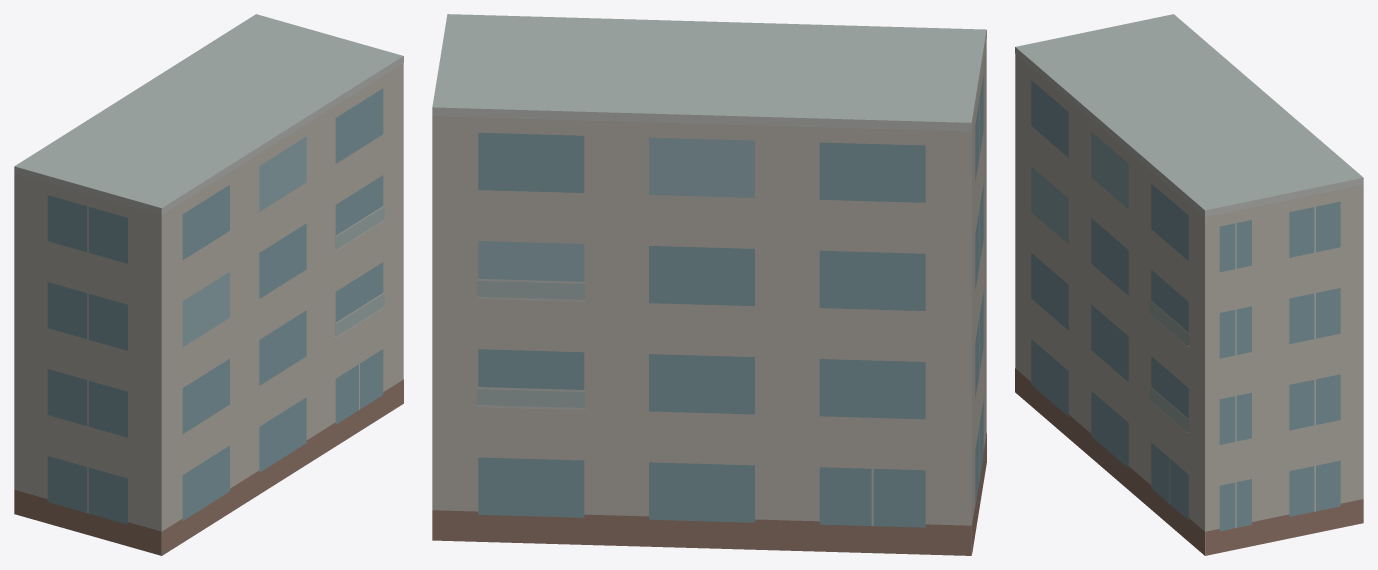
The model's file is residential-995b2096-d845-4713-be39-03f24df00b7d.glb.
The picture shows the model from 3 angles, left to right: view 1: azimuth 30°, elevation 25°; view 2: azimuth 150°, elevation 25°; view 3: azimuth 270°, elevation 25°; orthographic projection. The views are drawn at different scales.
Visible parts, largest first — view 1: residential-995b2096-d845-4713-be39-03f24df00b7d.tmp; view 2: residential-995b2096-d845-4713-be39-03f24df00b7d.tmp; view 3: residential-995b2096-d845-4713-be39-03f24df00b7d.tmp.
Boxes of the visible parts, x1,y1,x2,y2 form: residential-995b2096-d845-4713-be39-03f24df00b7d.tmp: (14,14,403,555); residential-995b2096-d845-4713-be39-03f24df00b7d.tmp: (432,14,986,555); residential-995b2096-d845-4713-be39-03f24df00b7d.tmp: (1015,14,1363,555).
Size of the model in its own units: 14.89 by 12.2 by 11.16.
